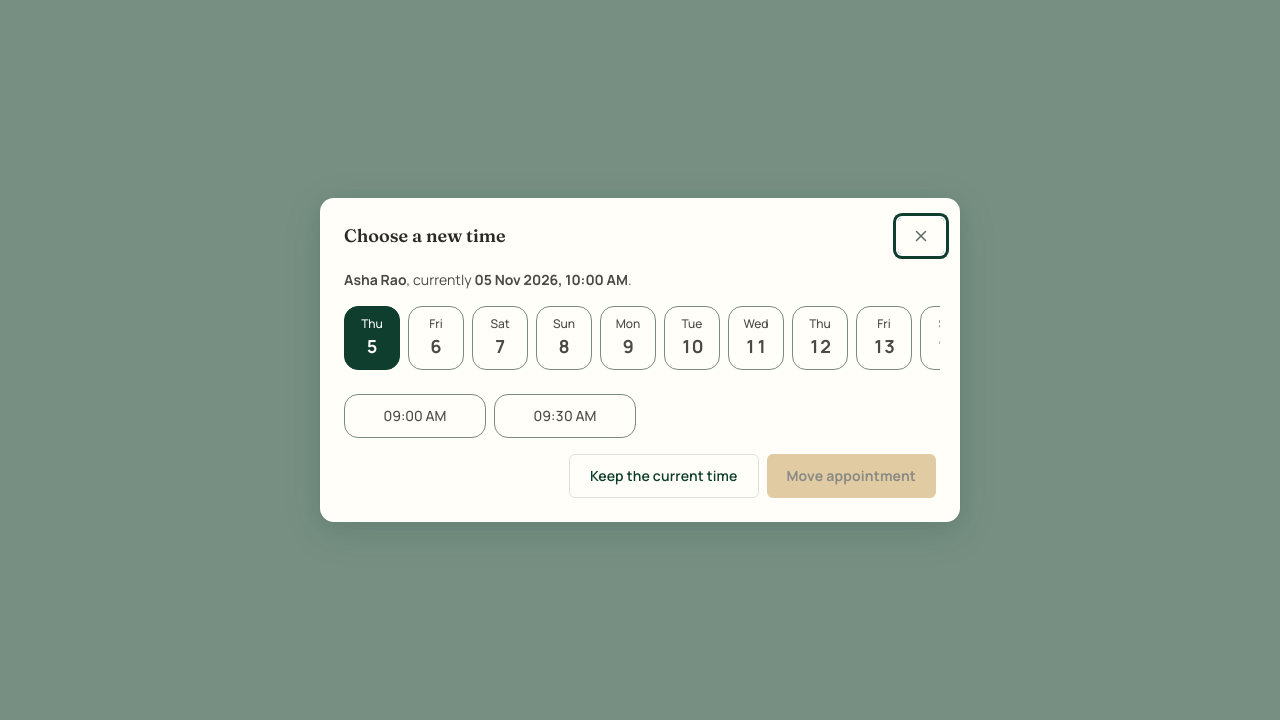
Scenario: RescheduleDialog › when the time was just taken: says so, clears the choice and reloads the day
Step 1. Click the button "09:30 AM" → (565, 416), box [494, 394, 636, 438]
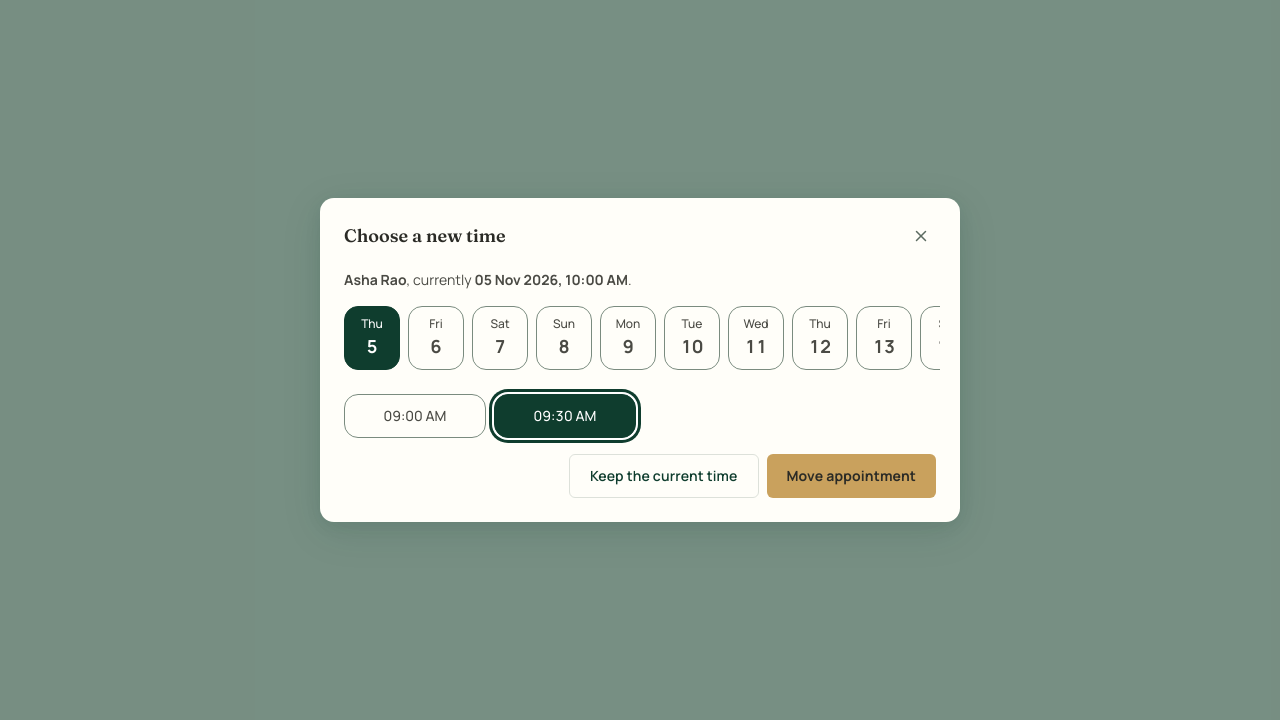
Step 2. Click the button "Move appointment" → (851, 476), box [766, 454, 936, 498]
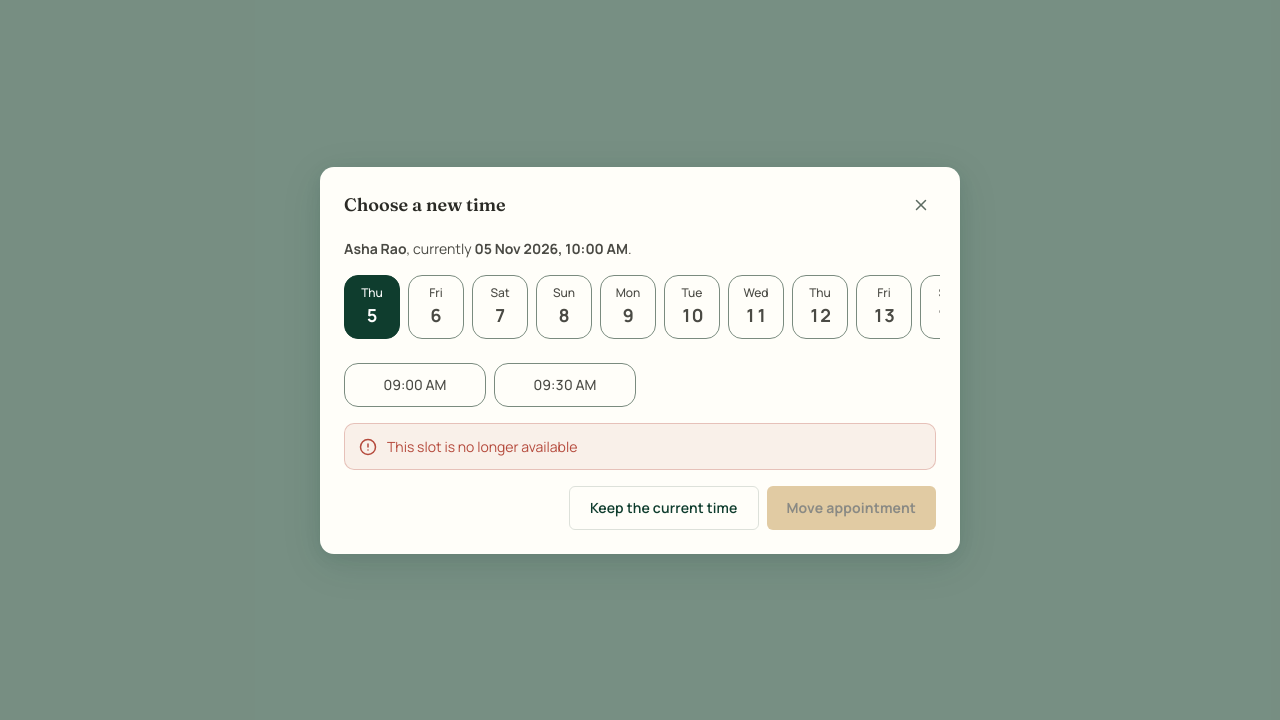
Expected: the message shows "no longer available", [387, 436, 577, 456]
Expected: the button "Move appointment" is disabled, [766, 486, 936, 530]
